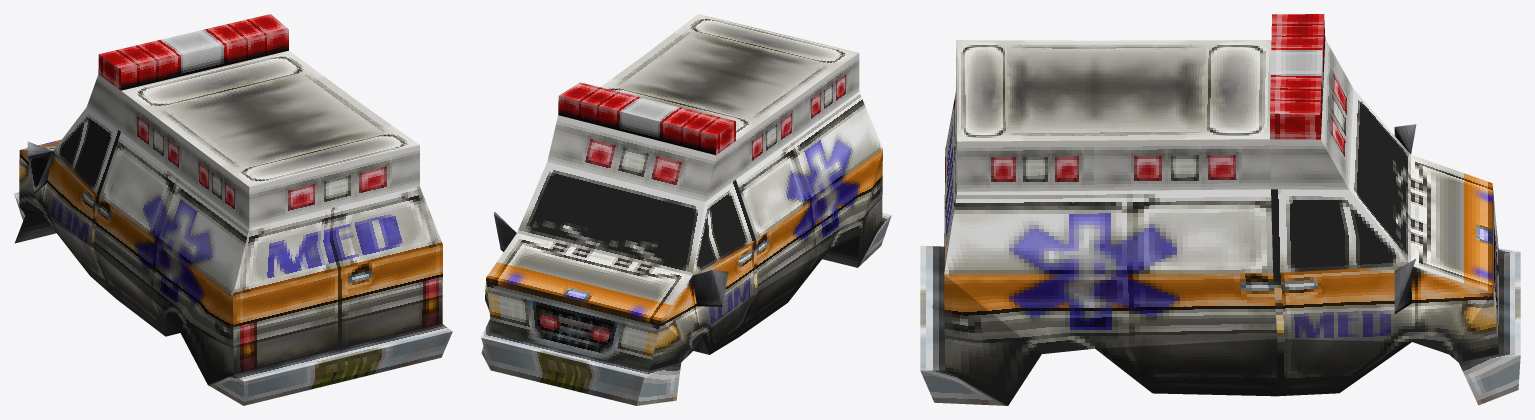
3 views of the same model, side by side, from view 1: azimuth 30°, elevation 25°; view 2: azimuth 150°, elevation 25°; view 3: azimuth 270°, elevation 25° (orthographic). The views are drawn at different scales.
Parts seen in each view (by area): view 1: prim159-ambulance; view 2: prim159-ambulance; view 3: prim159-ambulance.
Part boxes in pixels (x1,y1,x2,y2): prim159-ambulance: (14,14,452,405); prim159-ambulance: (481,14,891,405); prim159-ambulance: (920,14,1520,405).
Bounding box in the file's own units: 322 × 285 × 553.
Materials: 8 (8 with a texture image).
